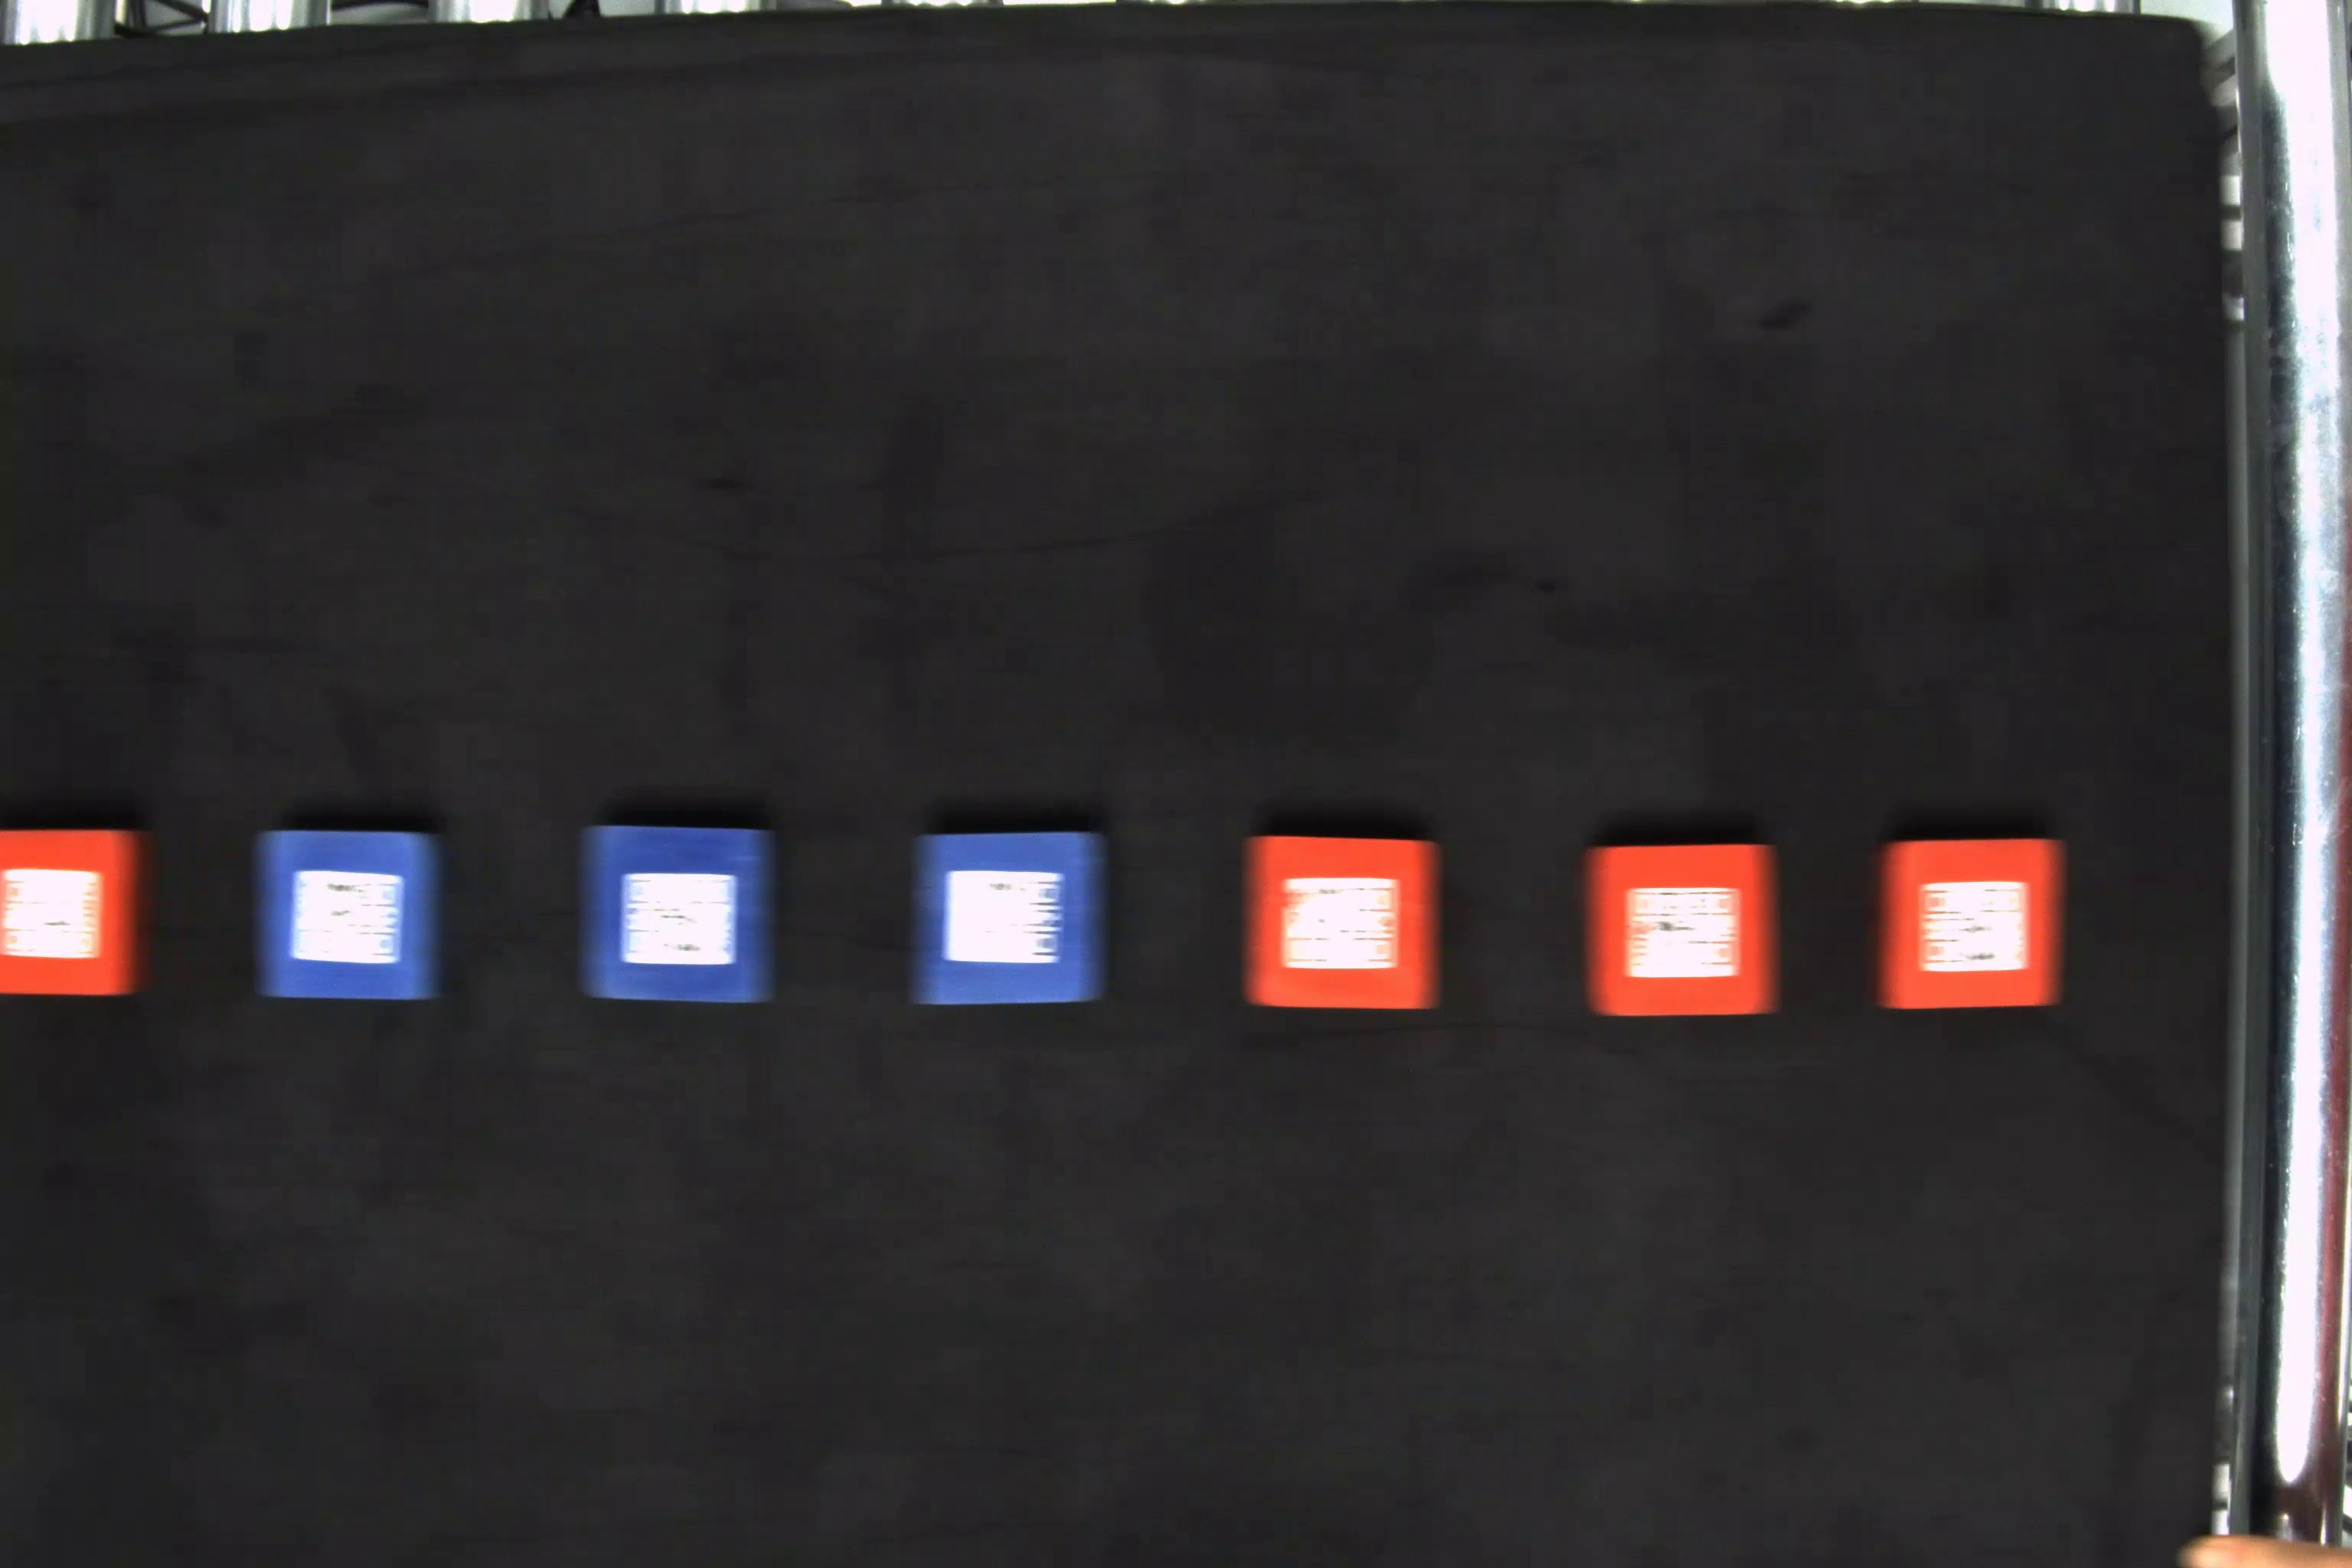wood: (577, 817, 782, 1008), (1239, 831, 1451, 1011), (908, 829, 1111, 1017), (1584, 842, 1790, 1020), (1869, 835, 2067, 1017), (247, 826, 448, 1003), (3, 829, 150, 1001)
